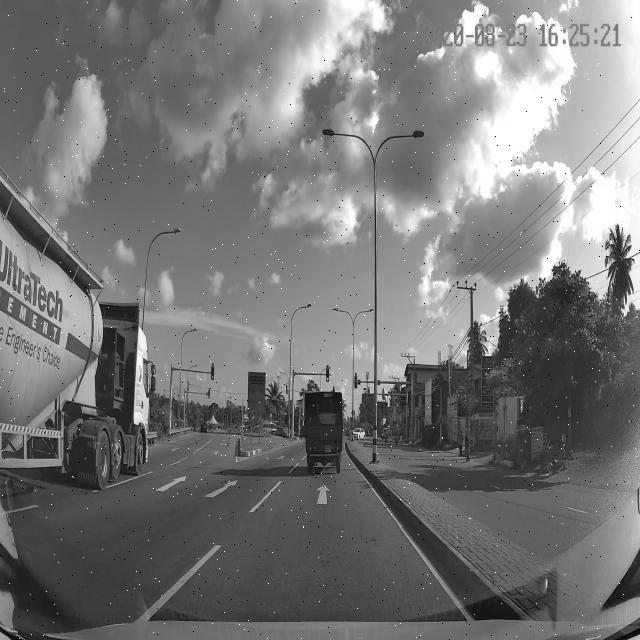forward: (227, 474, 411, 527)
